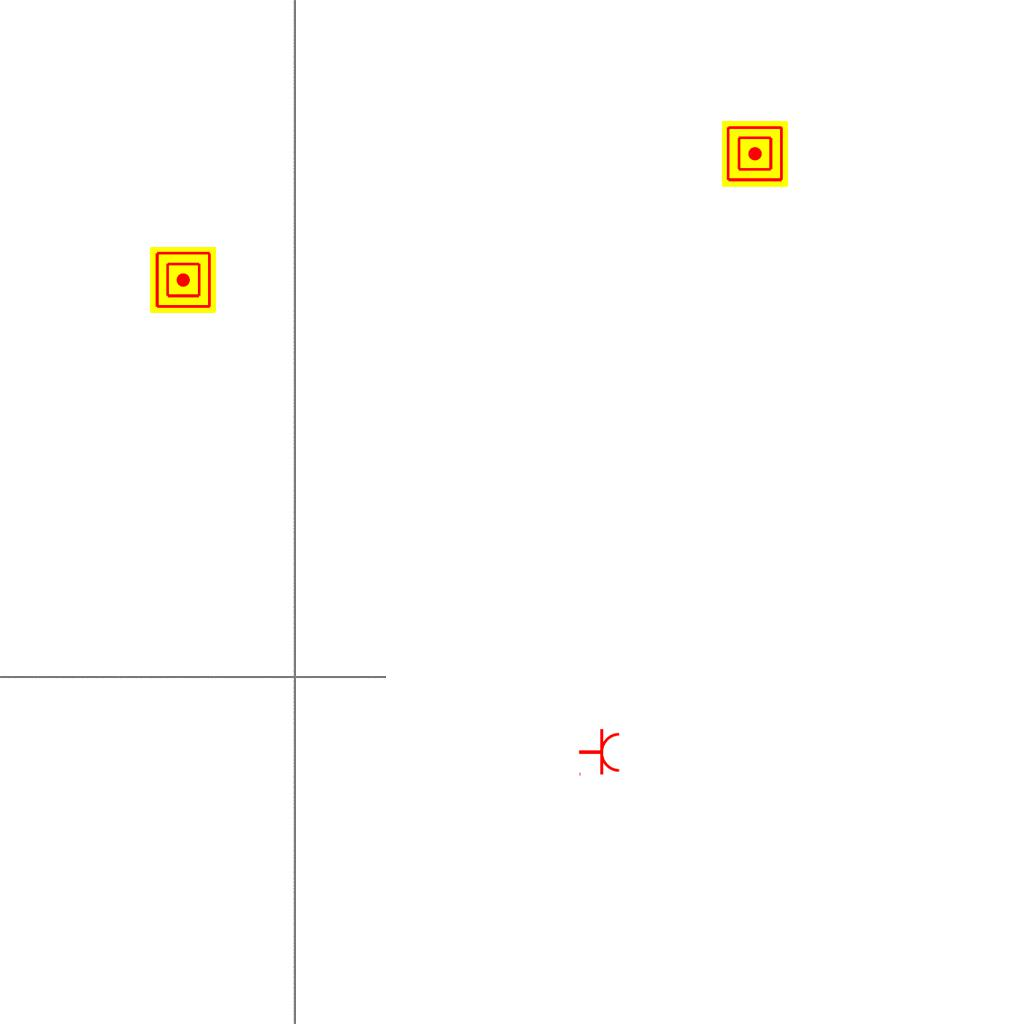NAM-Nichtautomatischer_Melder: (150, 247, 216, 313), (722, 121, 788, 187)
Schukosteckdose_einfach: (578, 728, 621, 778)
